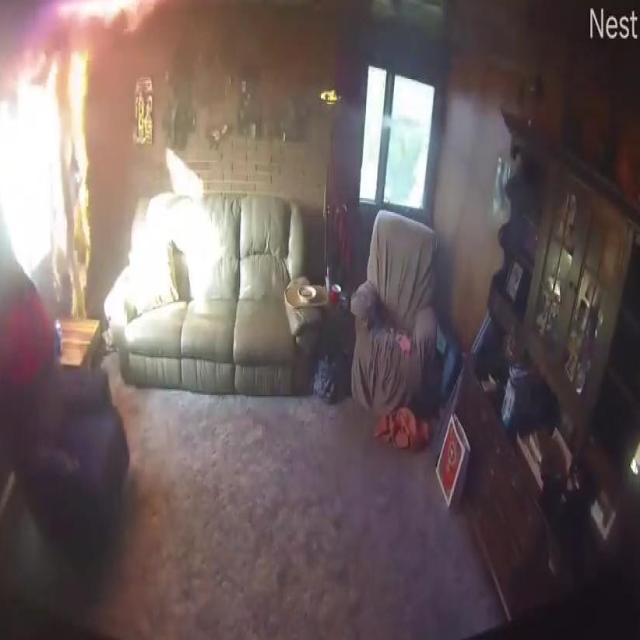smoke: (43, 35, 92, 318), (38, 0, 174, 33)
